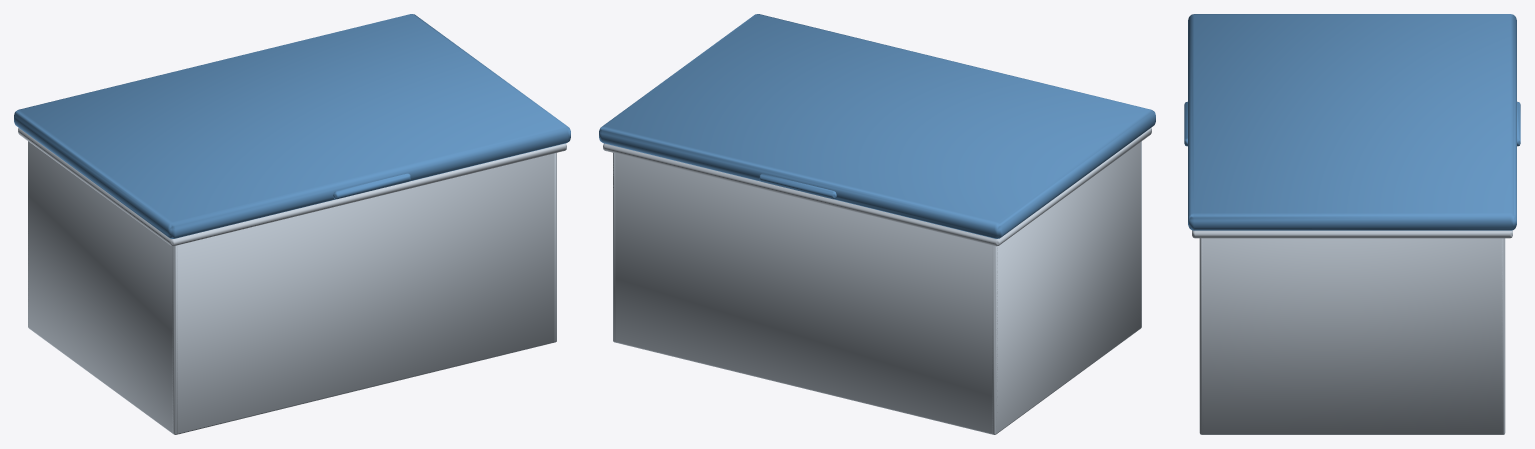
Rendered from storage_tub.glb.
3 renders of one model, left to right at view 1: azimuth 30°, elevation 25°; view 2: azimuth 150°, elevation 25°; view 3: azimuth 270°, elevation 25°, orthographic. The views are drawn at different scales.
Visible parts, largest first — view 1: body, lid; view 2: body, lid; view 3: lid, body.
Boxes of the visible parts, box(x1,y1,x2,y2) form: body: box(18, 128, 566, 434); lid: box(14, 14, 570, 238); body: box(603, 128, 1151, 434); lid: box(599, 14, 1155, 238); lid: box(1184, 14, 1520, 230); body: box(1192, 230, 1512, 434).
Size of the model in its own units: 0.63 by 0.325 by 0.44.
